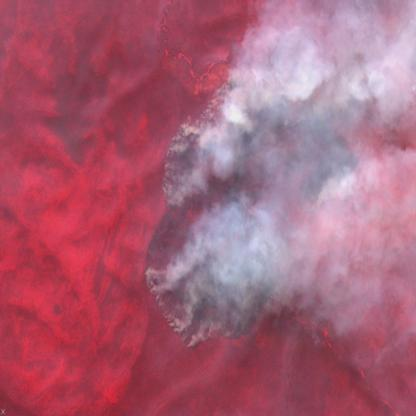fire: (137, 70, 366, 360)
